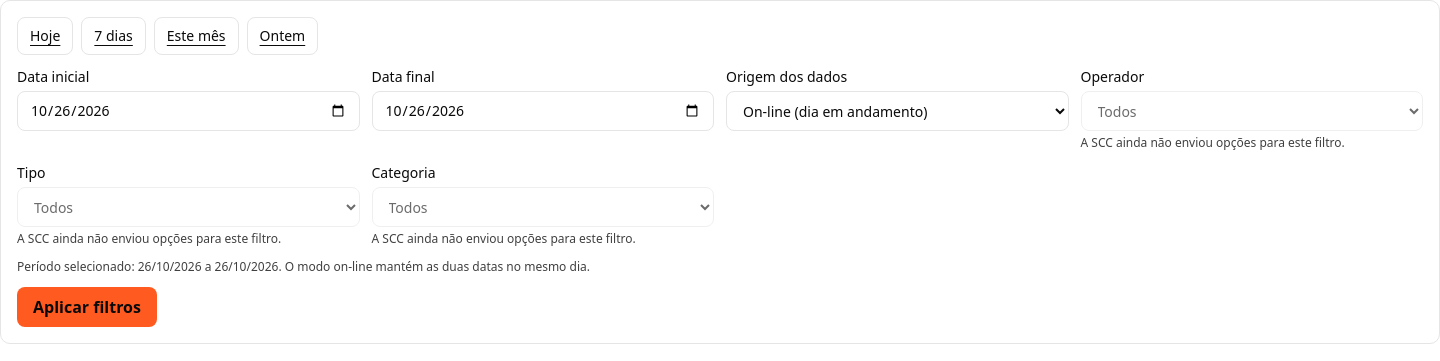
Scenario: filtros do relatório › mantém a escolha online explicitamente em um único dia
The image size is (1440, 361).
Check: the text "modo on-line mantém as duas datas no mesmo dia" is shown, box [282,258,590,275]
Type "2026-10-25" into the date field labelled "Data final" at (543, 111), box [372,91,714,131]
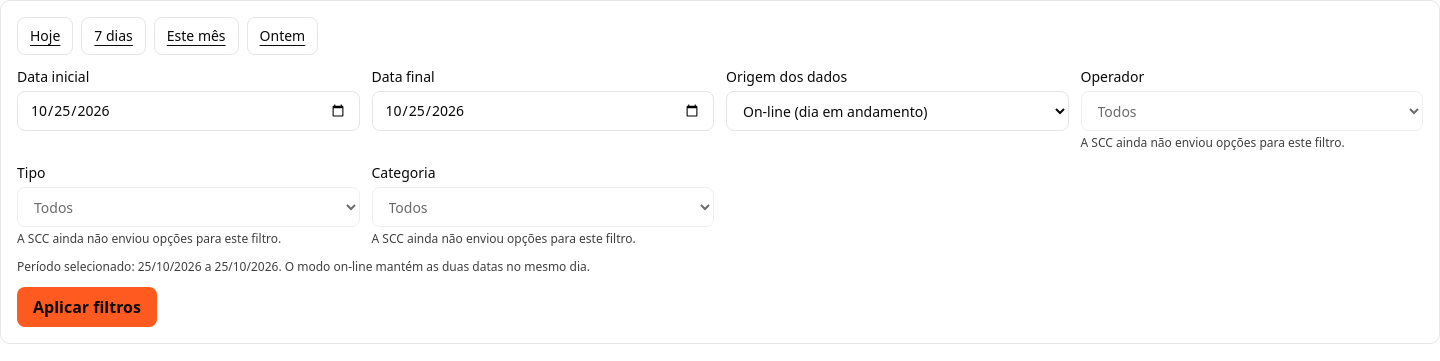
Check: the date field labelled "Data inicial" holds "2026-10-25", box [17,91,360,131]
